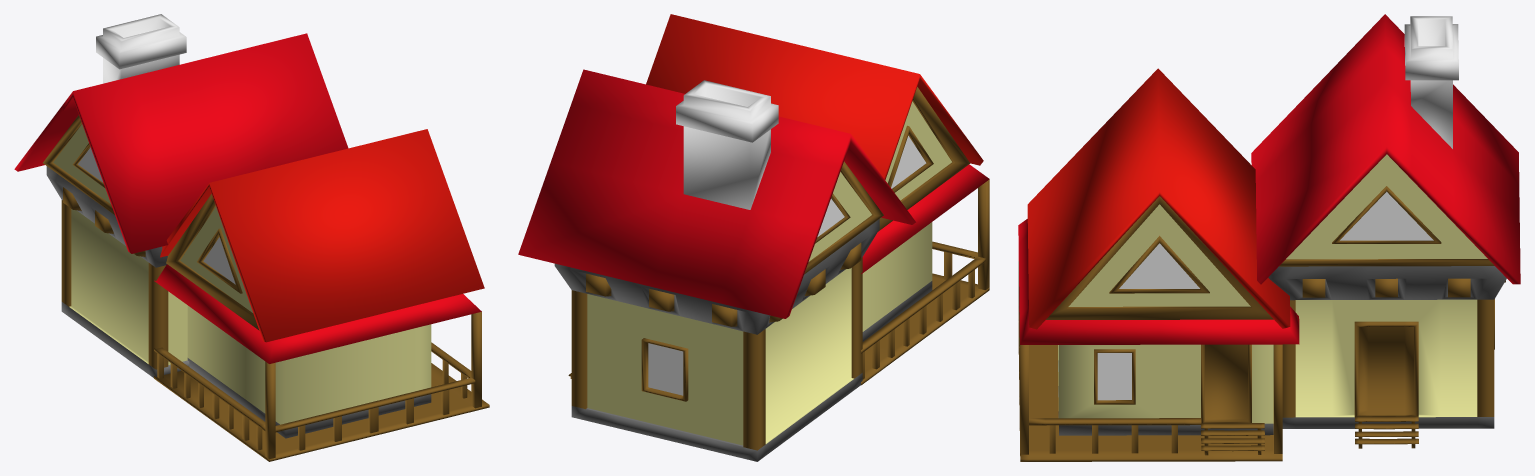
The model's file is house1.fbx.
The picture shows the model from 3 angles, left to right: view 1: azimuth 30°, elevation 25°; view 2: azimuth 150°, elevation 25°; view 3: azimuth 270°, elevation 25°; orthographic projection. The views are drawn at different scales.
Parts seen in each view (by area): view 1: Cube.031, Cube.032, Cube.033, Cube.035, Cube.034, Cube.036; view 2: Cube.031, Cube.032, Cube.033, Cube.034, Cube.035, Cube.036; view 3: Cube.031, Cube.033, Cube.032, Cube.035, Cube.036, Cube.034.
Boxes of the visible parts, x1,y1,x2,y2 form: Cube.031: (14,33,484,363); Cube.032: (53,124,431,424); Cube.033: (43,115,489,461); Cube.035: (46,166,431,438); Cube.034: (96,14,186,83); Cube.036: (78,147,235,284); Cube.031: (518,14,989,318); Cube.032: (587,101,951,445); Cube.033: (568,87,989,450); Cube.034: (676,80,778,209); Cube.035: (554,219,932,461); Cube.036: (648,136,926,395); Cube.031: (1018,14,1520,344); Cube.033: (1018,186,1505,461); Cube.032: (1058,154,1487,423); Cube.035: (1058,266,1506,435); Cube.036: (1097,191,1433,400); Cube.034: (1404,16,1458,148).
Size of the model in its own units: 615 by 659 by 899.
